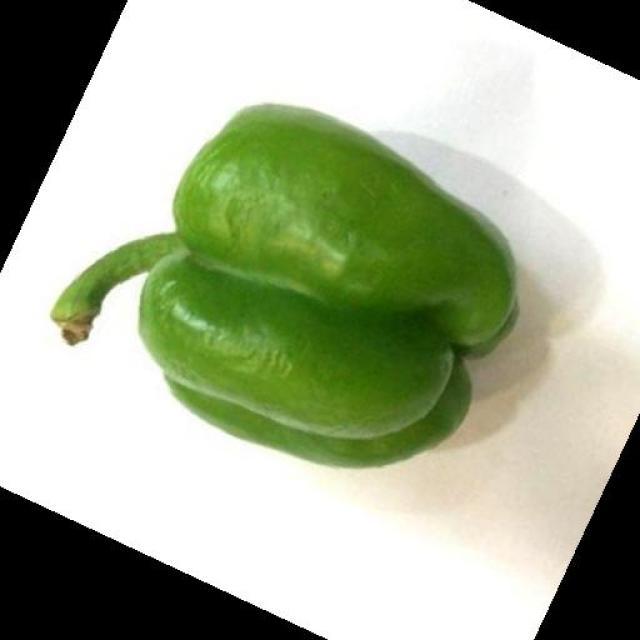Fresh_Capsicum: (118, 150, 522, 436)
